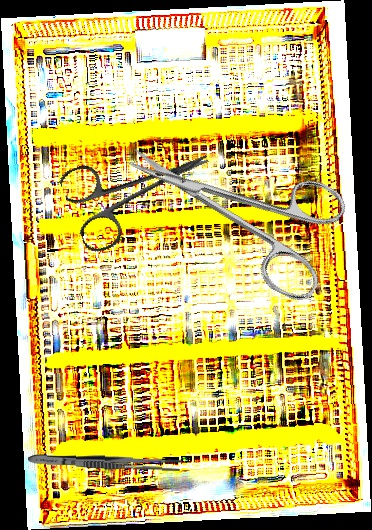Dressing Forceps: (27, 451, 182, 473)
Iris Scissors: (106, 100, 360, 307), (57, 120, 225, 257)
